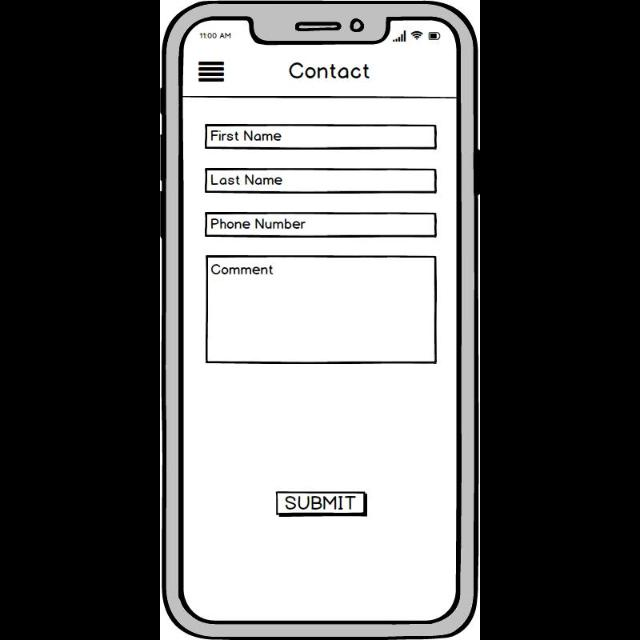icon: (198, 62, 226, 82)
input: (207, 256, 437, 364), (205, 168, 437, 194), (205, 212, 437, 238), (205, 125, 437, 149)
text: (289, 62, 371, 80)
textbutton: (276, 490, 368, 518)
toolbar: (184, 49, 456, 97)
